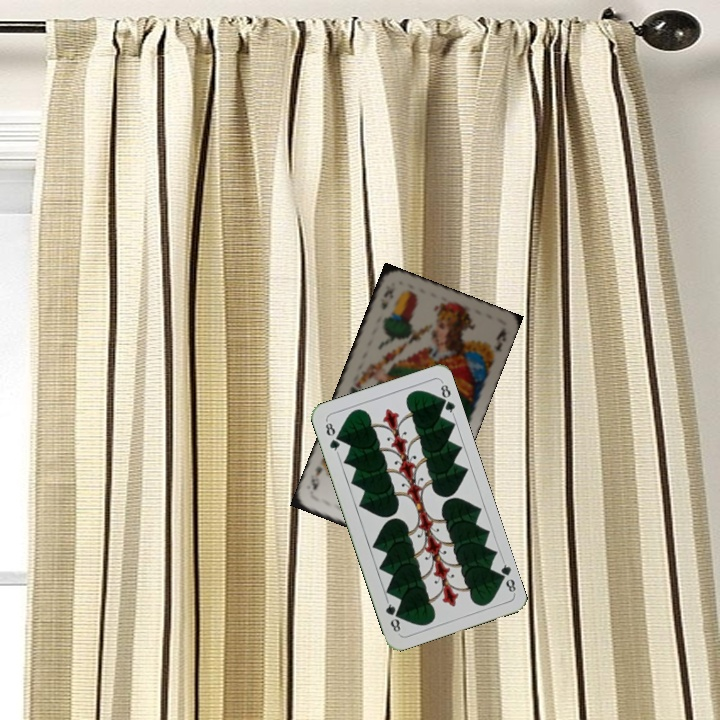EK: (377, 284, 396, 312)
G8: (493, 556, 519, 596), (321, 417, 342, 456)
